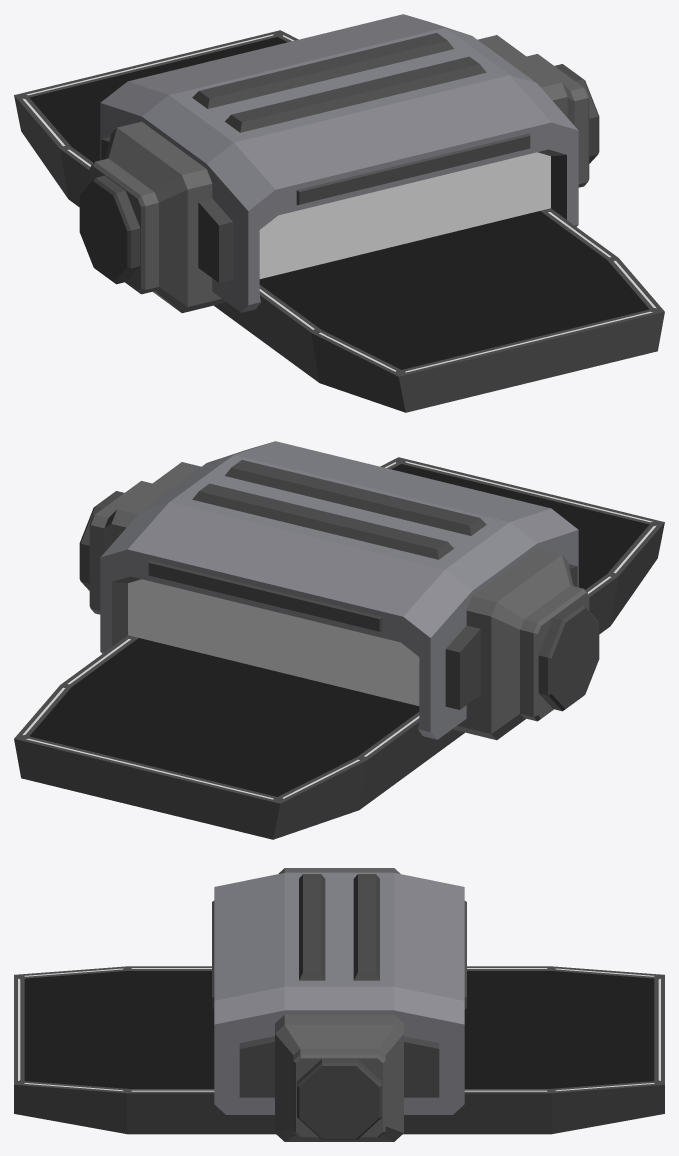
The model's file is SS_Hanger.fbx.
The picture shows the model from 3 angles, top to bottom: view 1: azimuth 30°, elevation 25°; view 2: azimuth 150°, elevation 25°; view 3: azimuth 270°, elevation 25°; orthographic projection. The views are drawn at different scales.
Parts seen in each view (by area): view 1: Cube.002; view 2: Cube.002; view 3: Cube.002.
Boxes of the visible parts, x1,y1,x2,y2 form: Cube.002: (14,14,664,412); Cube.002: (14,441,664,839); Cube.002: (14,868,664,1141).
Bounding box in the file's own units: 1000 × 413 × 1412.
